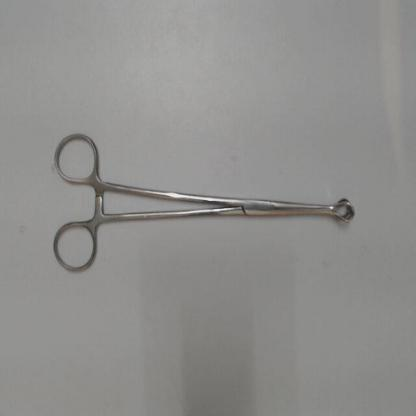8 Babcock Tissue Forceps: (45, 126, 359, 280)
